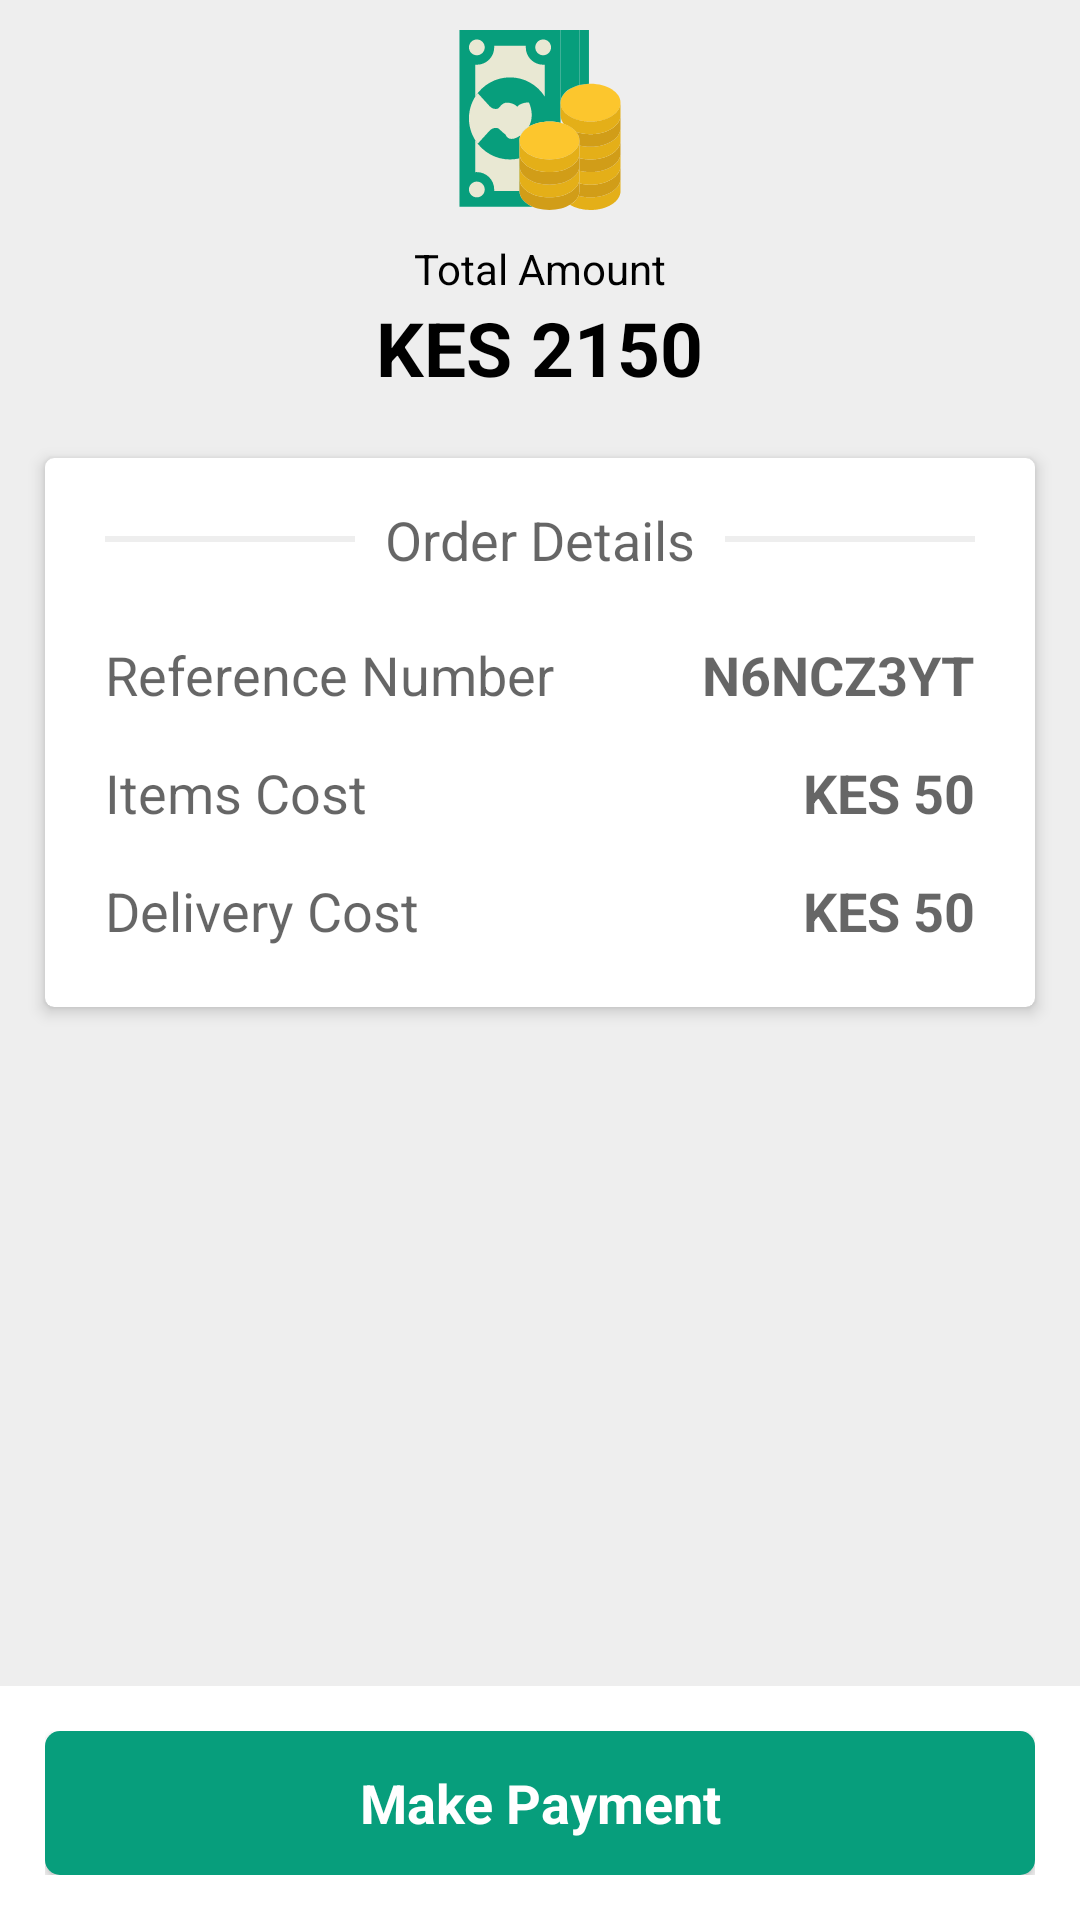

Icon bounding boxes for this 1080×1920 phone screenshot, format (x1, y1, x2, y2):
change: (459, 30, 621, 210)
